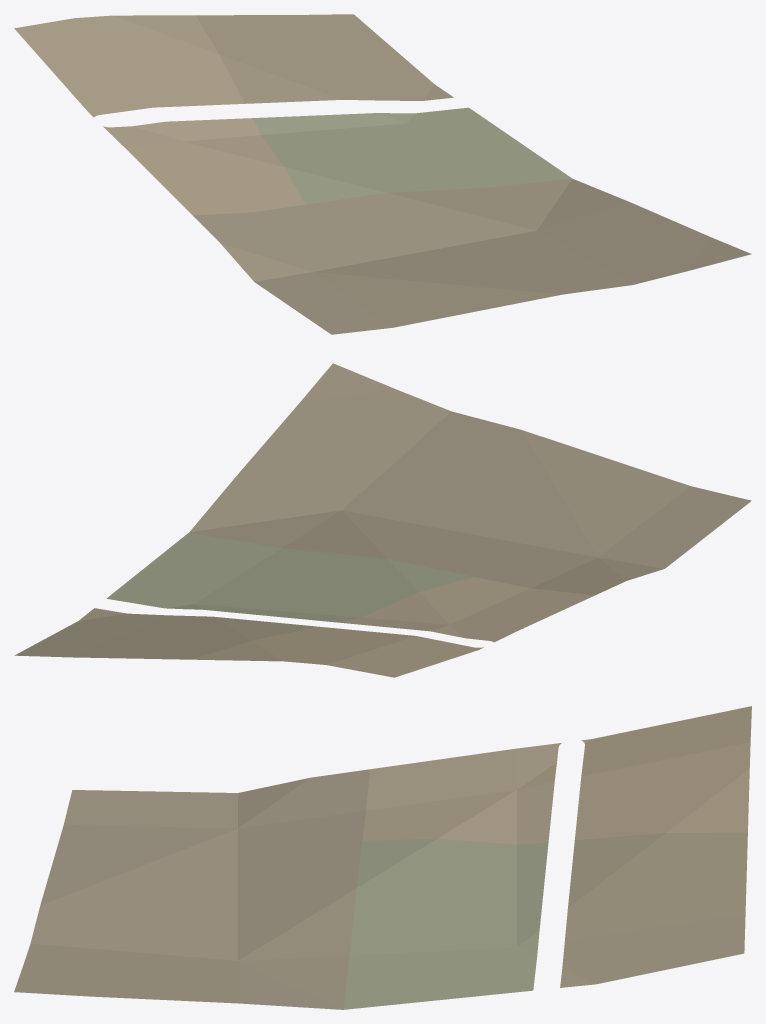
The model's file is farm_-17_-27_soil.glb.
3 views of the same model, one above another, from view 1: azimuth 30°, elevation 25°; view 2: azimuth 150°, elevation 25°; view 3: azimuth 270°, elevation 25° (orthographic). The views are drawn at different scales.
Visible parts, largest first — view 1: geometry_0; view 2: geometry_0; view 3: geometry_0.
Boxes of the visible parts, bbox=[...] form: geometry_0: bbox=[14, 14, 751, 334]; geometry_0: bbox=[14, 363, 751, 677]; geometry_0: bbox=[14, 706, 751, 1009].
Size of the model in its own units: 141 by 34.66 by 211.
